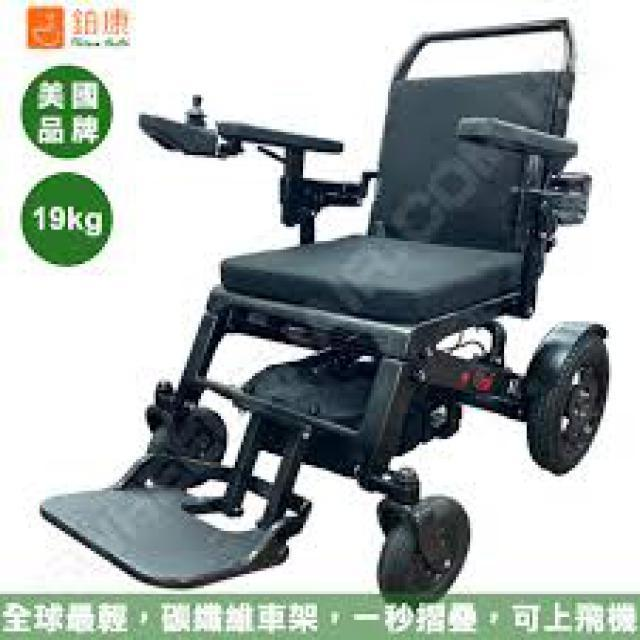wheelchair: (17, 11, 626, 588)
